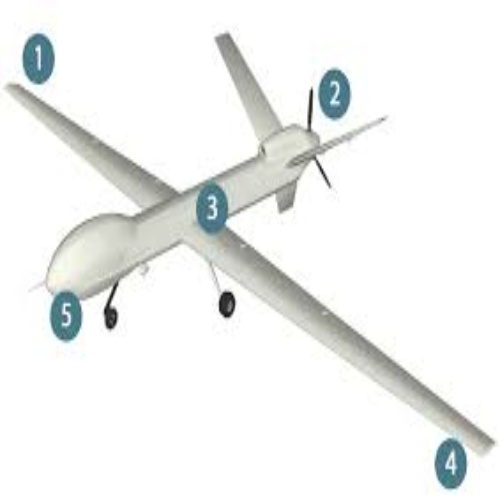uav104: (3, 33, 500, 461)
